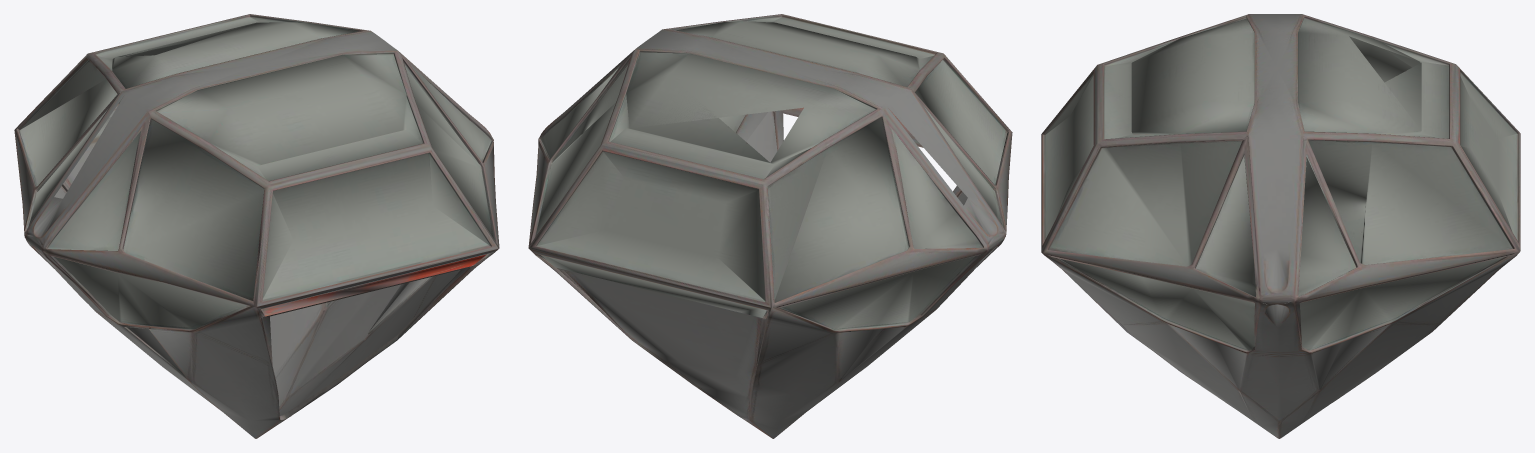
Rendered from selected.fbx.
The picture shows the model from 3 angles, left to right: view 1: azimuth 30°, elevation 25°; view 2: azimuth 150°, elevation 25°; view 3: azimuth 270°, elevation 25°; orthographic projection.
Visible parts, largest first — view 1: tripo_node_dc0090fd-1164-4630-8668-e36c3a3fdaed; view 2: tripo_node_dc0090fd-1164-4630-8668-e36c3a3fdaed; view 3: tripo_node_dc0090fd-1164-4630-8668-e36c3a3fdaed.
Boxes of the visible parts, box(x1,y1,x2,y2) form: tripo_node_dc0090fd-1164-4630-8668-e36c3a3fdaed: box(14, 14, 499, 438); tripo_node_dc0090fd-1164-4630-8668-e36c3a3fdaed: box(528, 14, 1012, 438); tripo_node_dc0090fd-1164-4630-8668-e36c3a3fdaed: box(1041, 14, 1520, 438).
Size of the model in its own units: 0.9995 by 0.7954 by 0.9292.
1 material, 1 textured.
